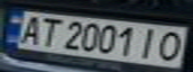0: (96, 21, 121, 55), (78, 20, 103, 53)
1: (115, 24, 139, 57)
2: (60, 18, 84, 52)
A: (12, 12, 48, 45)
I: (136, 26, 163, 60)
O: (151, 29, 190, 62)
T: (33, 16, 63, 47)
